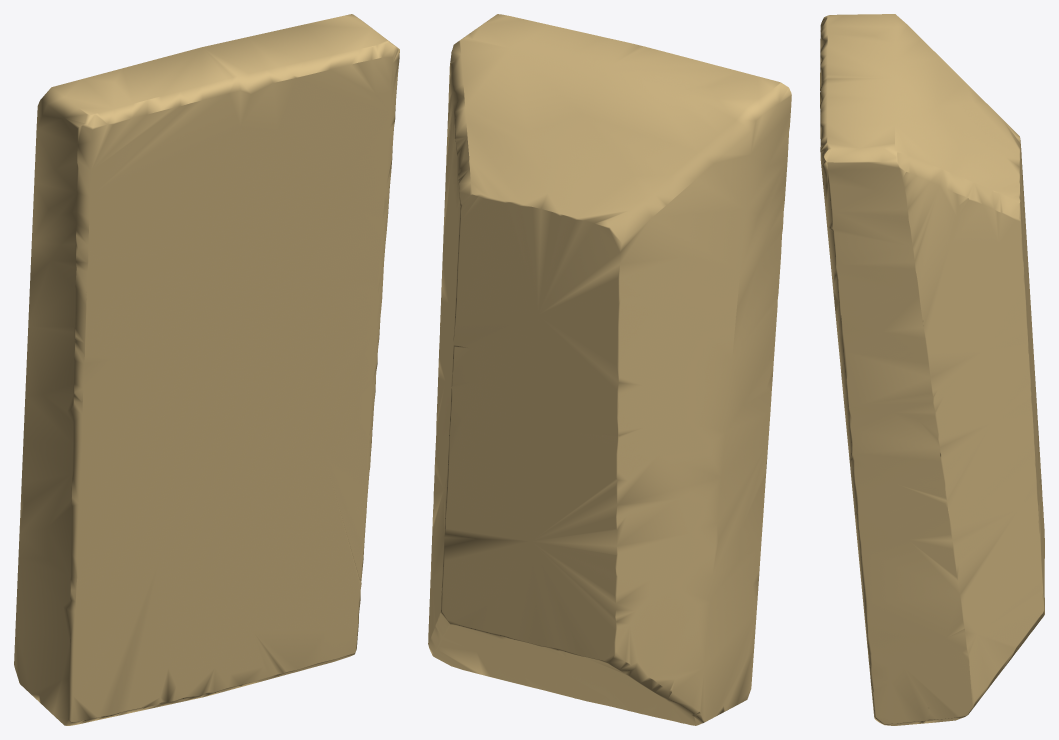
File: Gold 2_LOD1.fbx
The picture shows the model from 3 angles, left to right: view 1: azimuth 30°, elevation 25°; view 2: azimuth 150°, elevation 25°; view 3: azimuth 270°, elevation 25°; orthographic projection. The views are drawn at different scales.
Visible parts, largest first — view 1: Layer_1; view 2: Layer_1; view 3: Layer_1.
Part boxes in pixels (x1=…): Layer_1: x1=14, y1=14, x2=399, y2=725; Layer_1: x1=428, y1=14, x2=791, y2=725; Layer_1: x1=820, y1=14, x2=1044, y2=725.
Bounding box in the file's own units: 0.4299 × 0.2848 × 0.8269.
1 material, 1 textured.
